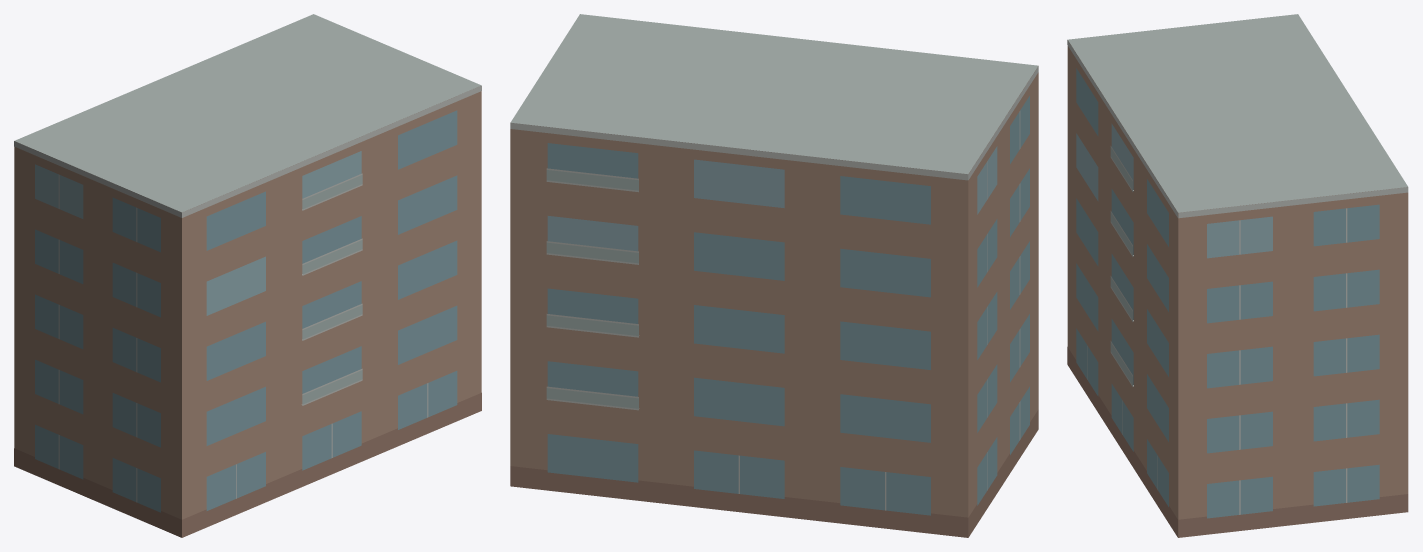
Rendered from survey-upis-32929432.glb.
3 renders of one model, left to right at view 1: azimuth 30°, elevation 25°; view 2: azimuth 150°, elevation 25°; view 3: azimuth 270°, elevation 25°, orthographic. The views are drawn at different scales.
Visible parts, largest first — view 1: survey-upis-32929432.tmp; view 2: survey-upis-32929432.tmp; view 3: survey-upis-32929432.tmp.
Part boxes in pixels (x1,y1,x2,y2): survey-upis-32929432.tmp: (14, 14, 481, 537); survey-upis-32929432.tmp: (510, 14, 1038, 537); survey-upis-32929432.tmp: (1067, 14, 1408, 537).
Size of the model in its own units: 18.62 by 14.2 by 13.5.
